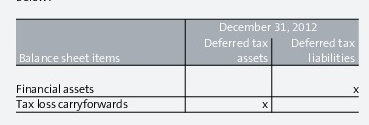table: (0, 0, 369, 125)
